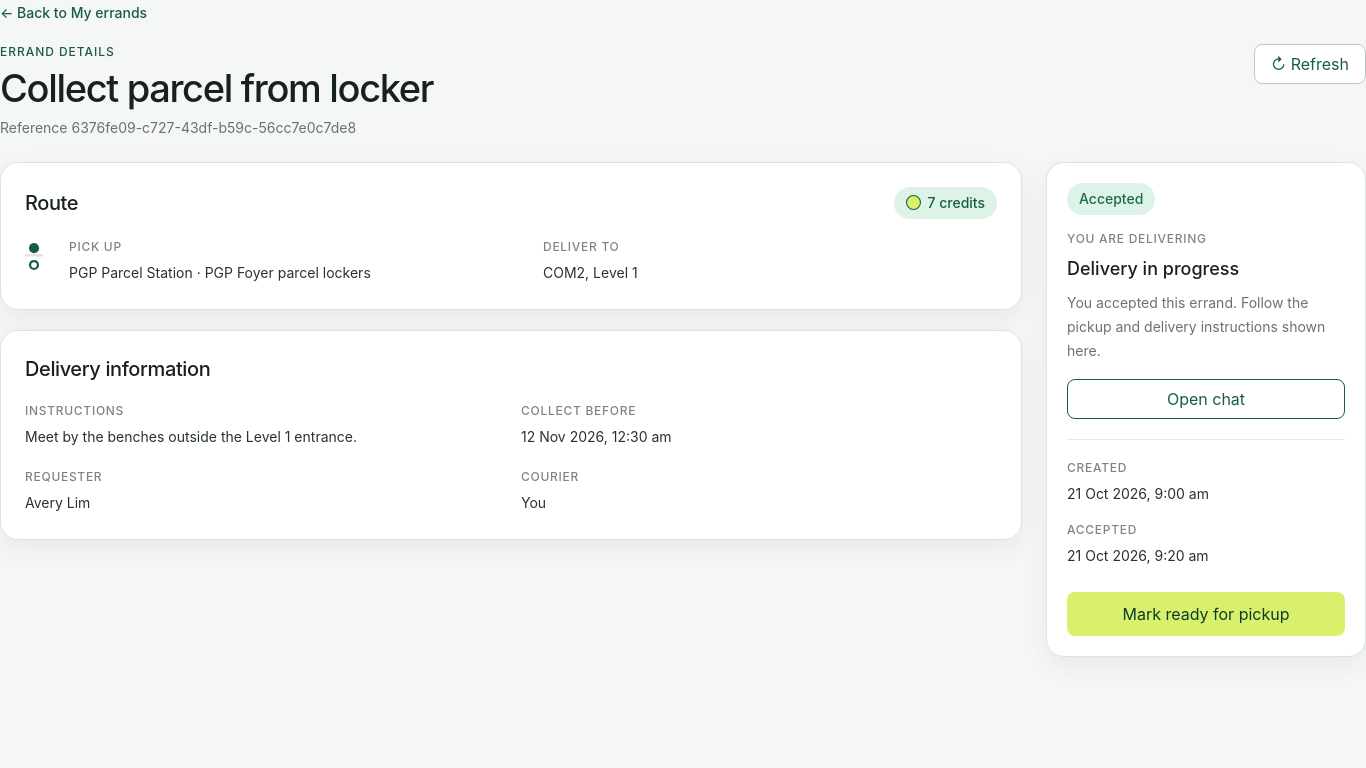
Test: ErrandDetailsPage › lets the assigned courier mark an accepted errand ready for pickup
This screenshot has width=1366, height=768.
Click the button "Mark ready for pickup" at (1206, 614), box [1067,592,1345,636]
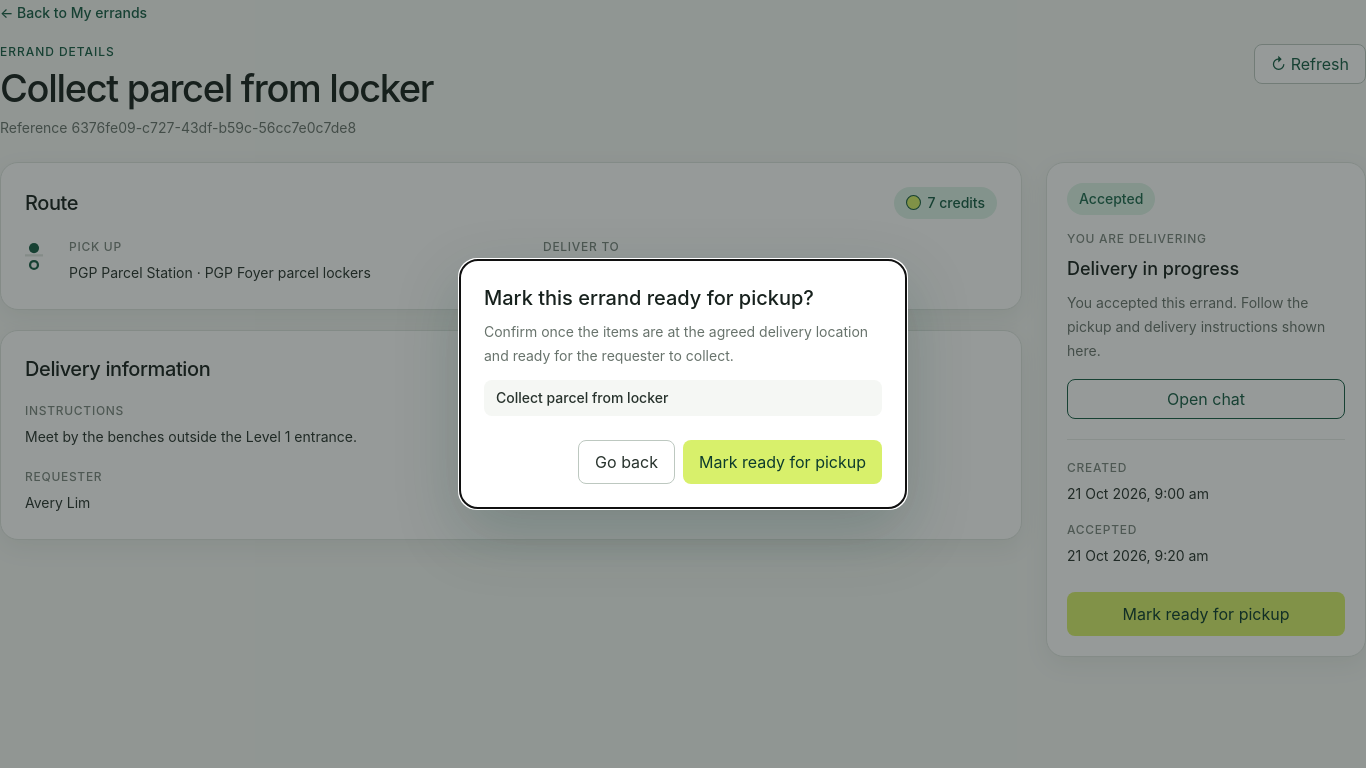
Click the button "Mark ready for pickup" at (782, 462), box [683,440,882,484]
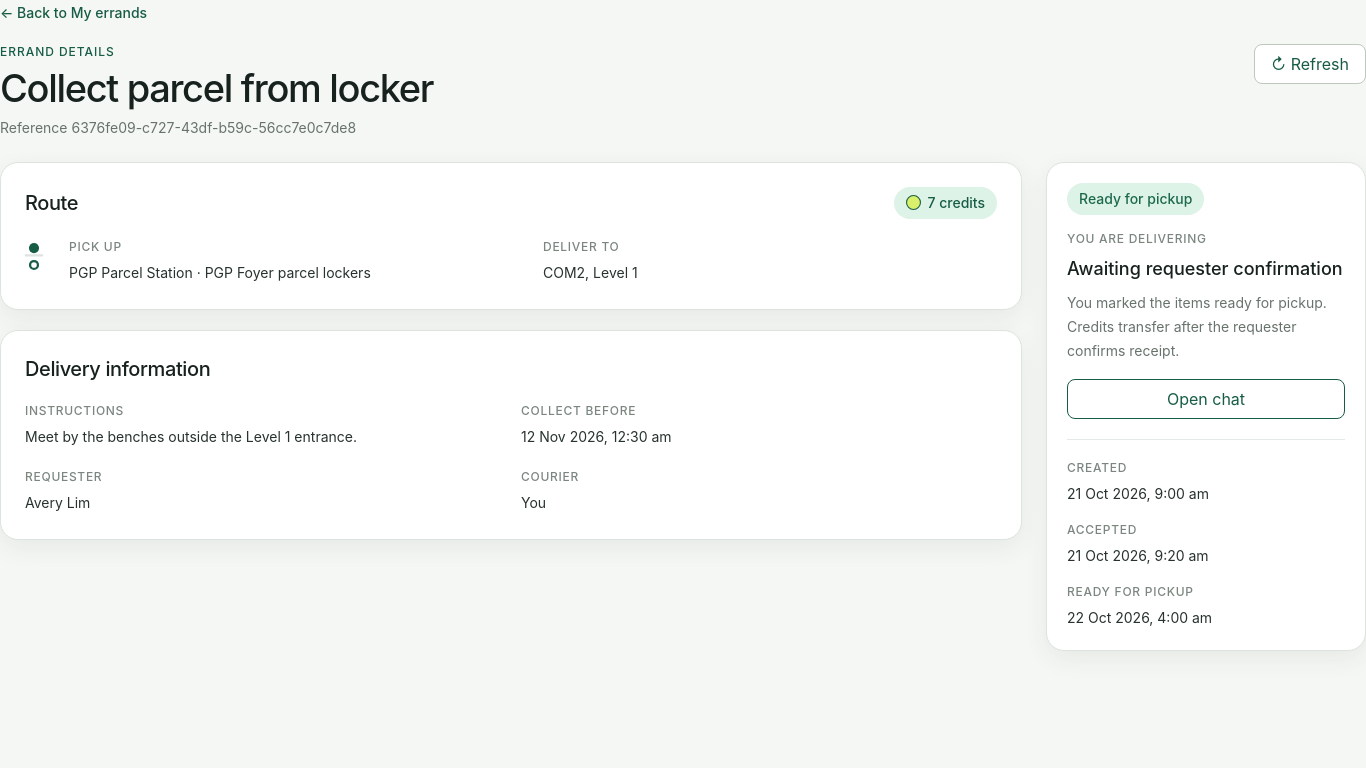
expect the heading "Awaiting requester confirmation" is shown: met, box [1067,255,1345,283]
expect the button "Mark ready for pickup" is gone: met
